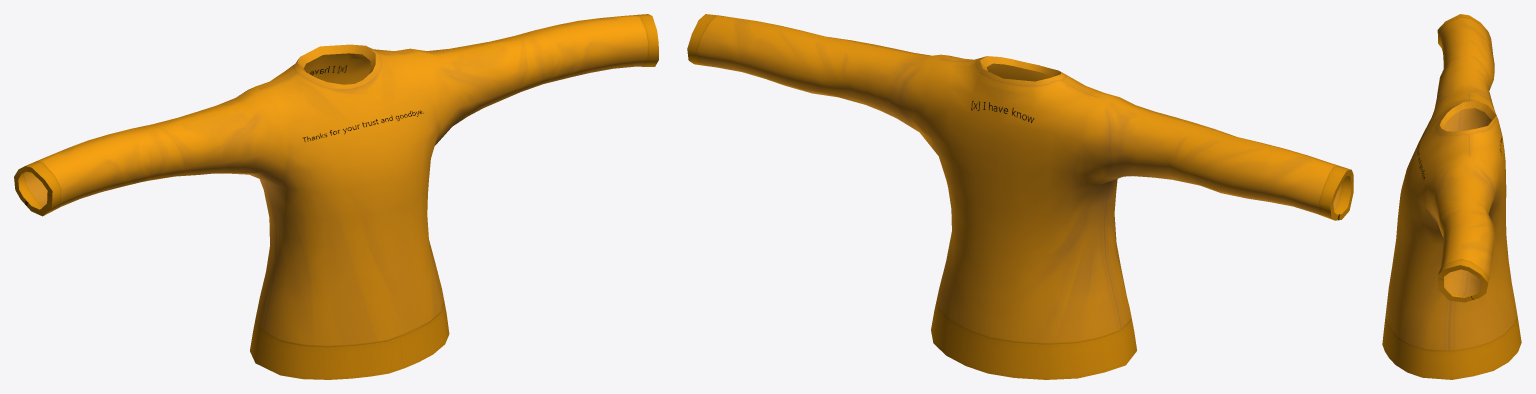
The model's file is Longsleeve_148_Albedo.glb.
3 views of the same model, side by side, from view 1: azimuth 30°, elevation 25°; view 2: azimuth 150°, elevation 25°; view 3: azimuth 270°, elevation 25° (orthographic). The views are drawn at different scales.
Parts seen in each view (by area): view 1: Longsleeve_LP; view 2: Longsleeve_LP; view 3: Longsleeve_LP.
Boxes of the visible parts, bbox=[...] form: Longsleeve_LP: bbox=[14, 14, 658, 379]; Longsleeve_LP: bbox=[687, 14, 1353, 379]; Longsleeve_LP: bbox=[1382, 14, 1521, 379].
Bounding box in the file's own units: 1.2 × 0.5118 × 0.2812.
Materials: 1 (1 with a texture image).
